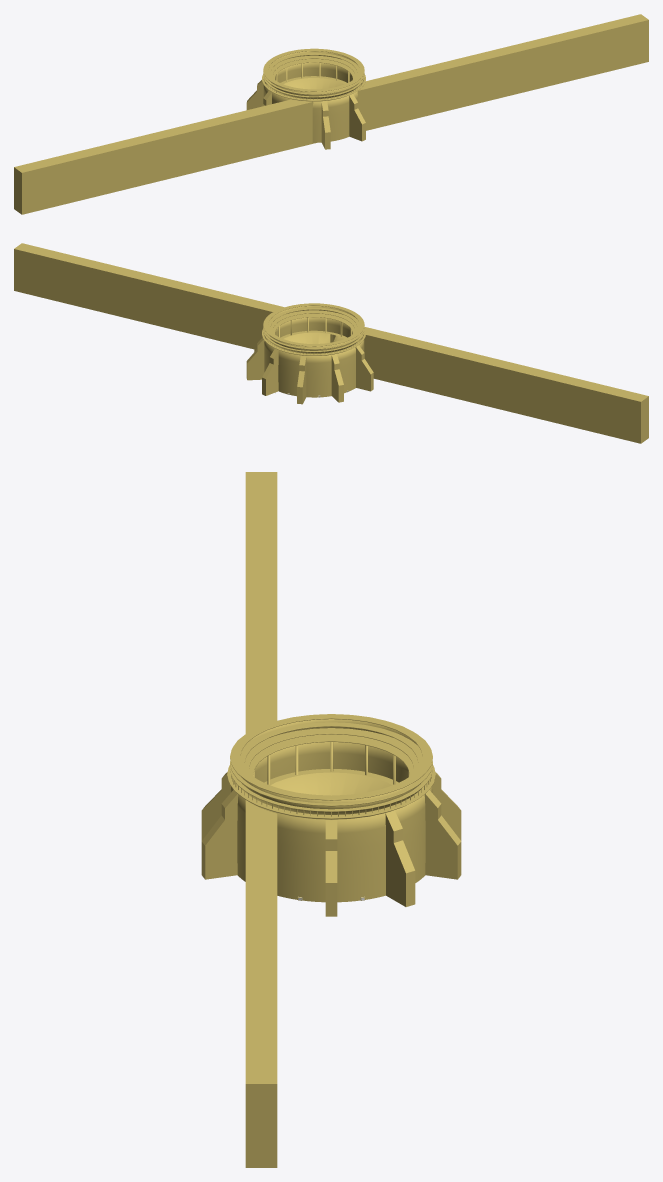
Rendered from PurgatoryArena.fbx.
3 renders of one model, top to bottom at view 1: azimuth 30°, elevation 25°; view 2: azimuth 150°, elevation 25°; view 3: azimuth 270°, elevation 25°, orthographic. The views are drawn at different scales.
Parts seen in each view (by area): view 1: Cube.004, OuterArenaWalls, Walls, Tribune; view 2: Cube.004, OuterArenaWalls, Walls, Tribune; view 3: OuterArenaWalls, Cube.004, Walls, Tribune.
Boxes of the visible parts, x1,y1,x2,y2 form: Cube.004: [14, 14, 648, 214]; OuterArenaWalls: [262, 48, 365, 142]; Walls: [246, 80, 365, 149]; Tribune: [280, 76, 346, 89]; Cube.004: [14, 243, 648, 443]; OuterArenaWalls: [262, 303, 365, 397]; Walls: [246, 337, 373, 404]; Tribune: [280, 330, 347, 343]; OuterArenaWalls: [227, 714, 435, 902]; Cube.004: [245, 472, 277, 1167]; Walls: [201, 772, 461, 916]; Tribune: [264, 769, 398, 795].
Bounding box in the file's own units: 182447 × 14602 × 32727.
